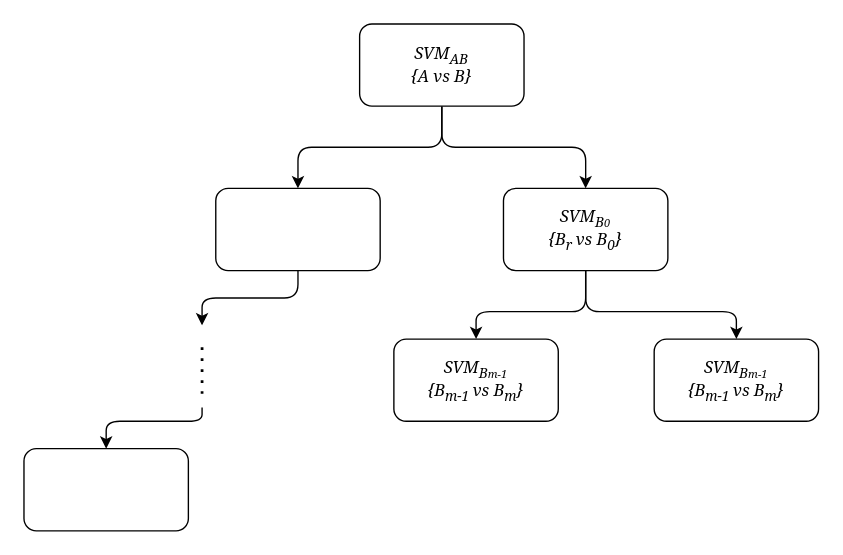
The diagram is 843 pixels wide and 555 high, and some of its shapes have lost their labels. Each missing label, with the centre of its shape:
"SVM A 0 {A r vs A 0 }" belongs at pixel 297 229.
"SVM A n-1 {A n-1 vs A n }" belongs at pixel 105 489.
